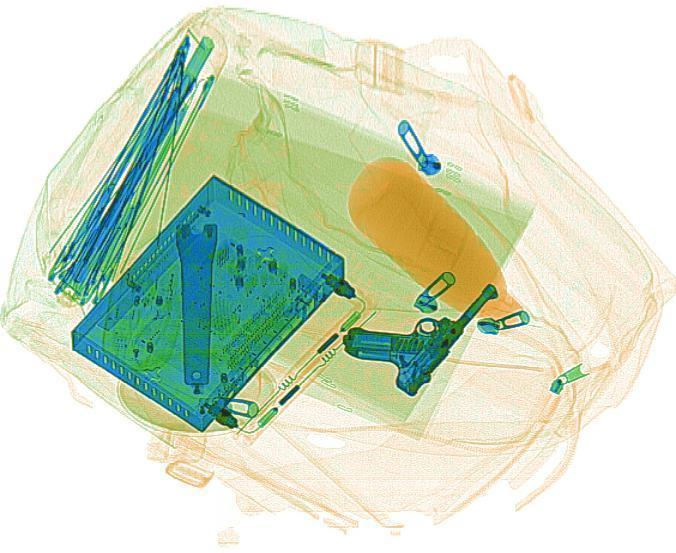Gun: (325, 248, 501, 398)
